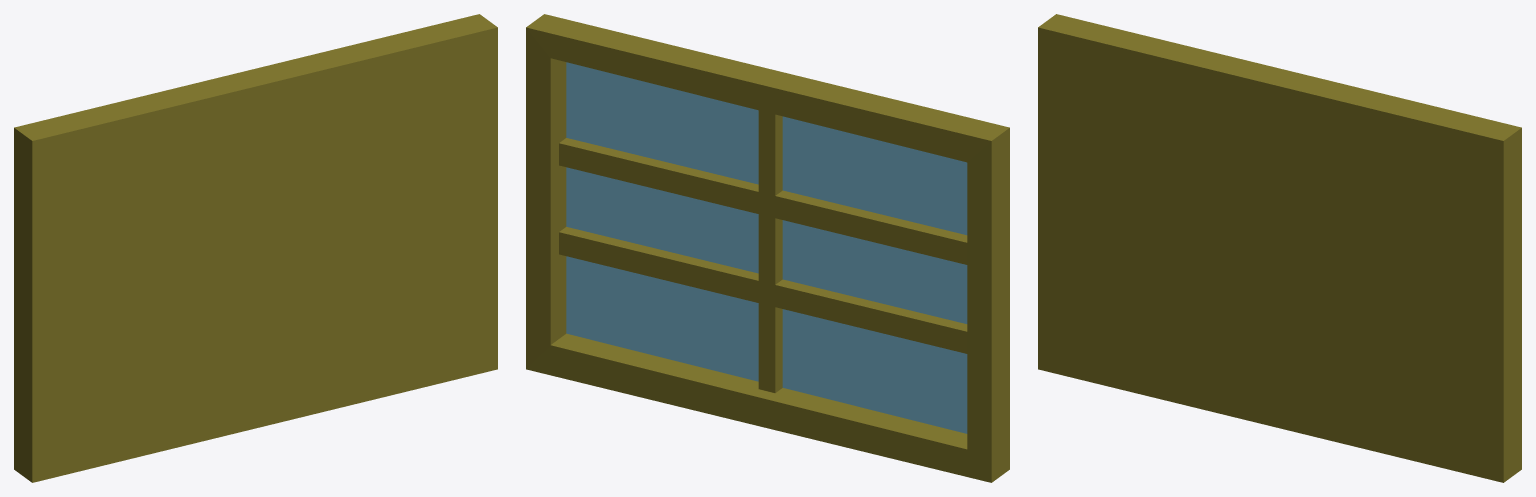
Rendered from WindowWide.fbx.
3 views of the same model, side by side, from view 1: azimuth 30°, elevation 25°; view 2: azimuth 150°, elevation 25°; view 3: azimuth 330°, elevation 25° (orthographic).
Visible parts, largest first — view 1: Cube; view 2: Cube; view 3: Cube.
Part boxes in pixels (box(x1,y1,x2,y2)): Cube: box(14, 14, 497, 482); Cube: box(526, 14, 1009, 482); Cube: box(1038, 14, 1521, 482).
Bounding box in the file's own units: 400 × 281 × 27.71.
